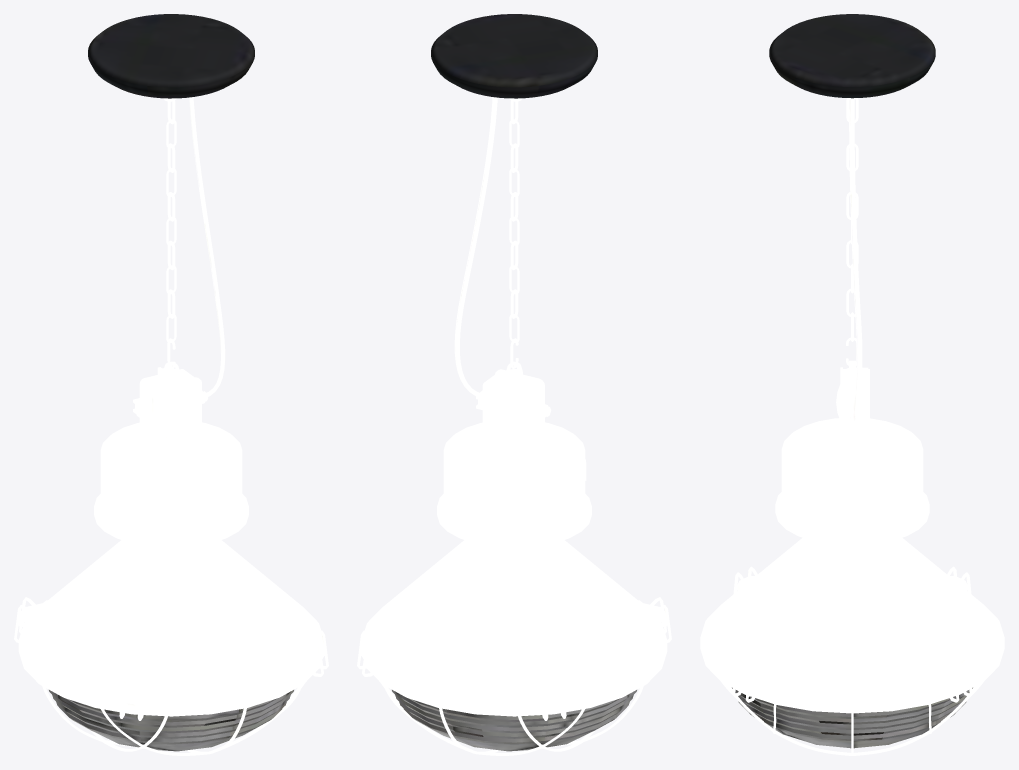
File: pendant_lamp.glb
3 views of the same model, side by side, from view 1: azimuth 30°, elevation 25°; view 2: azimuth 150°, elevation 25°; view 3: azimuth 270°, elevation 25° (orthographic).
Visible parts, largest first — view 1: pendant_lamp; view 2: pendant_lamp; view 3: pendant_lamp.
Boxes of the visible parts, bbox=[...] form: pendant_lamp: bbox=[14, 14, 328, 755]; pendant_lamp: bbox=[357, 14, 671, 755]; pendant_lamp: bbox=[700, 14, 1004, 755].
Size of the model in its own units: 0.4379 by 1.1 by 0.4379.
Materials: 2 (2 with a texture image).
